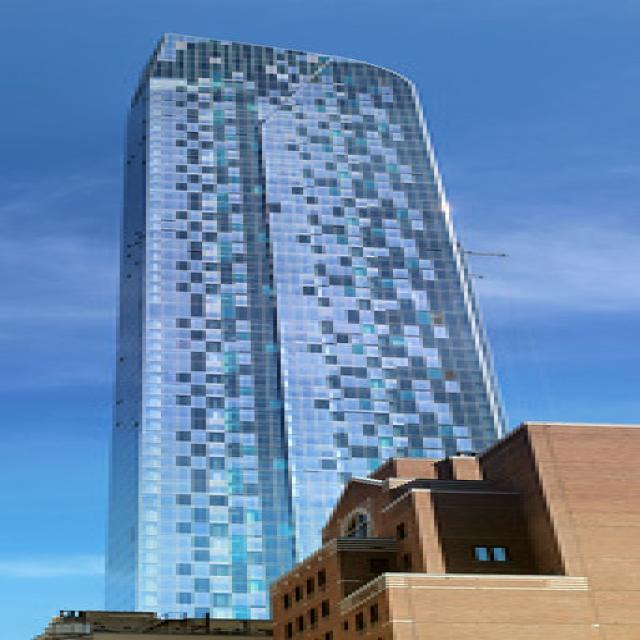Normal_building: (110, 30, 500, 625)
